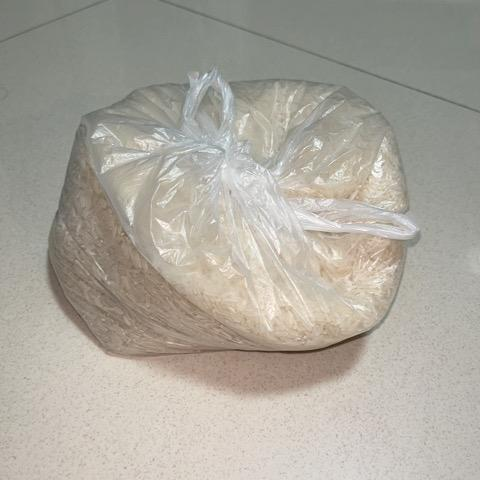rice: (47, 64, 422, 363)
